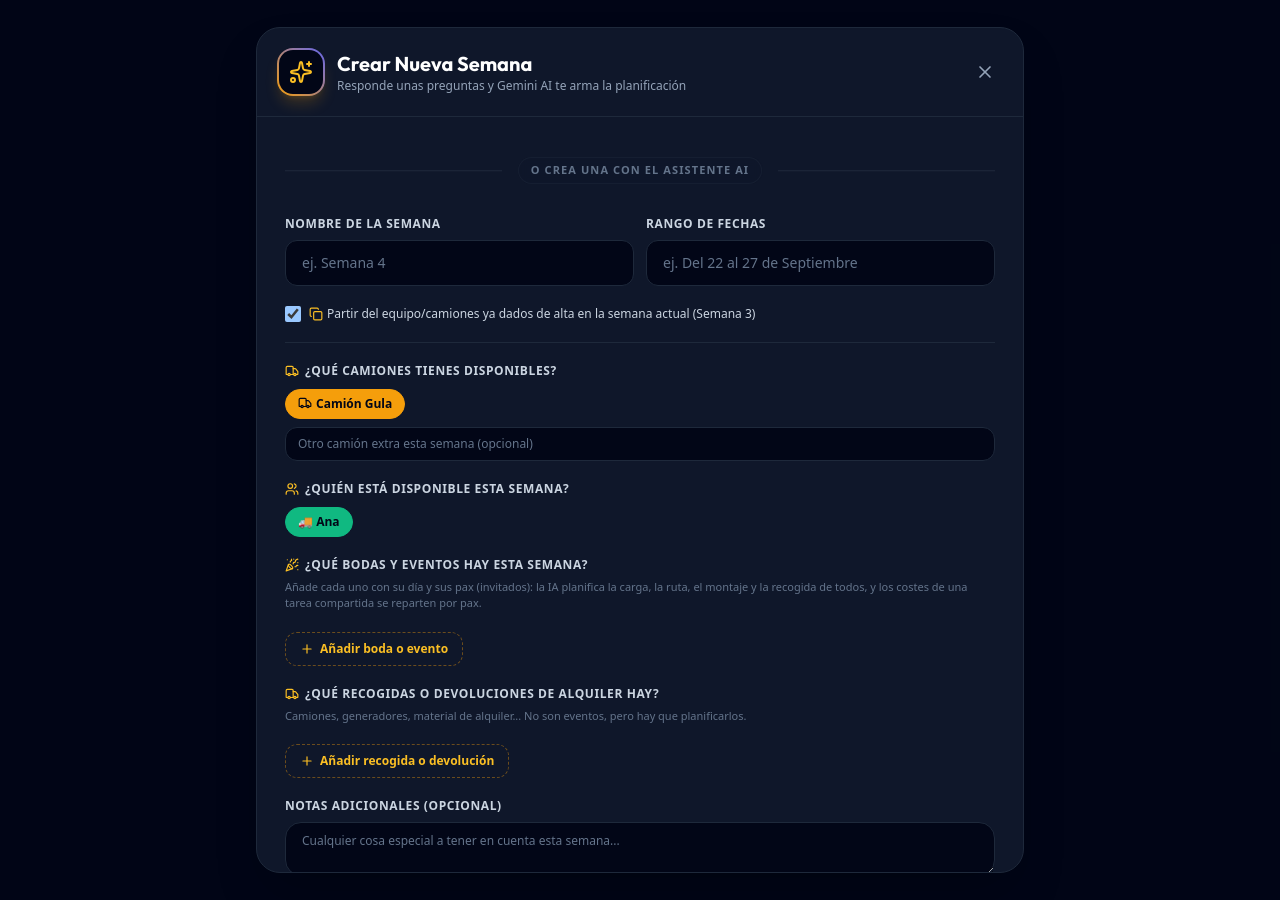
Test: WeekManagerModal — clave de Gemini y errores › sin clave guardada pide la clave, y si falla la generación NO ofrece crear la semana
In the field with placeholder "ej. Semana 4": (460, 262) [285,240,634,286], type "Semana 4"
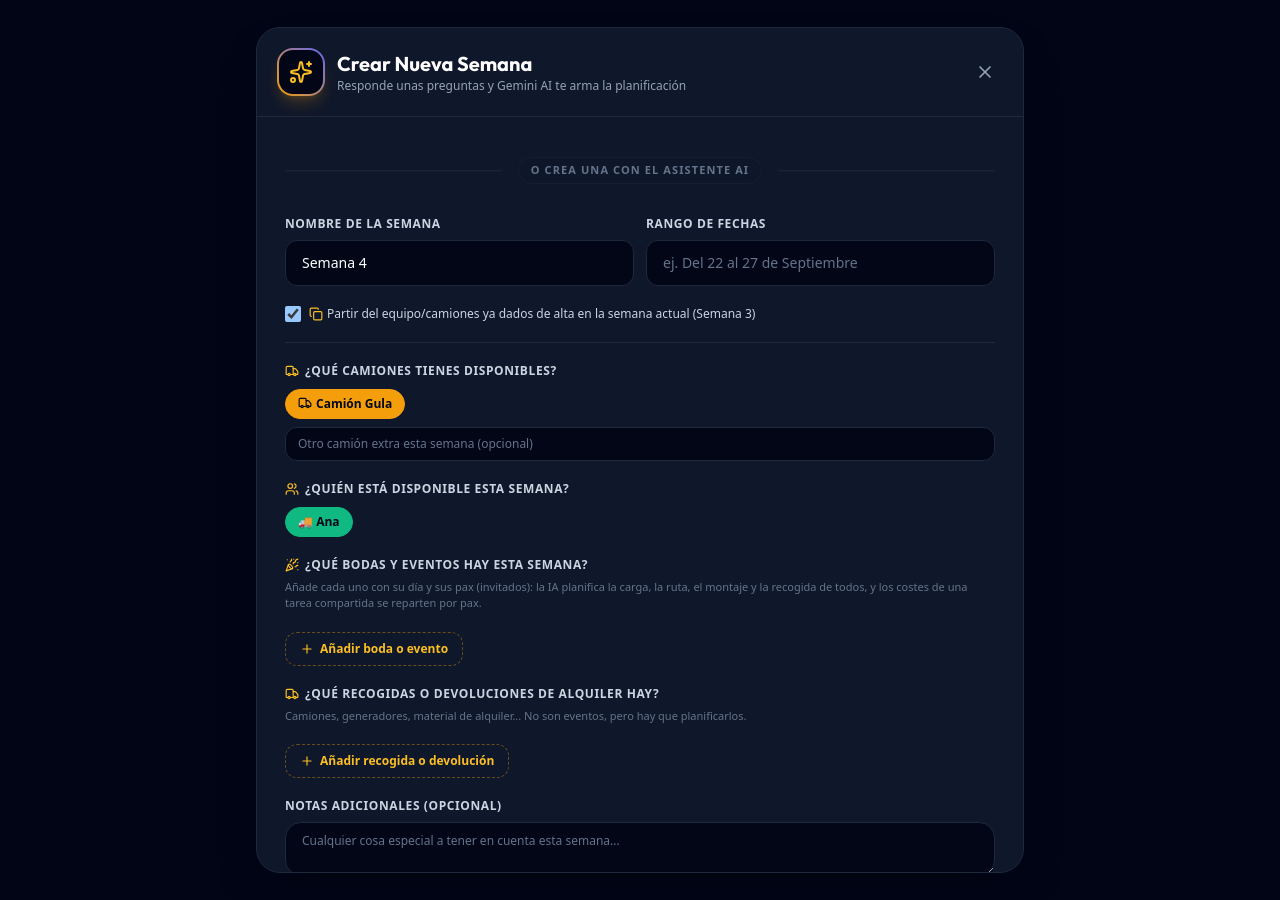
In the field with placeholder "ej. Del 22 al 27 de Septiembre": (820, 262) [646,240,995,286], type "Del 22 al 27 de septiembre"
(page scrolled)
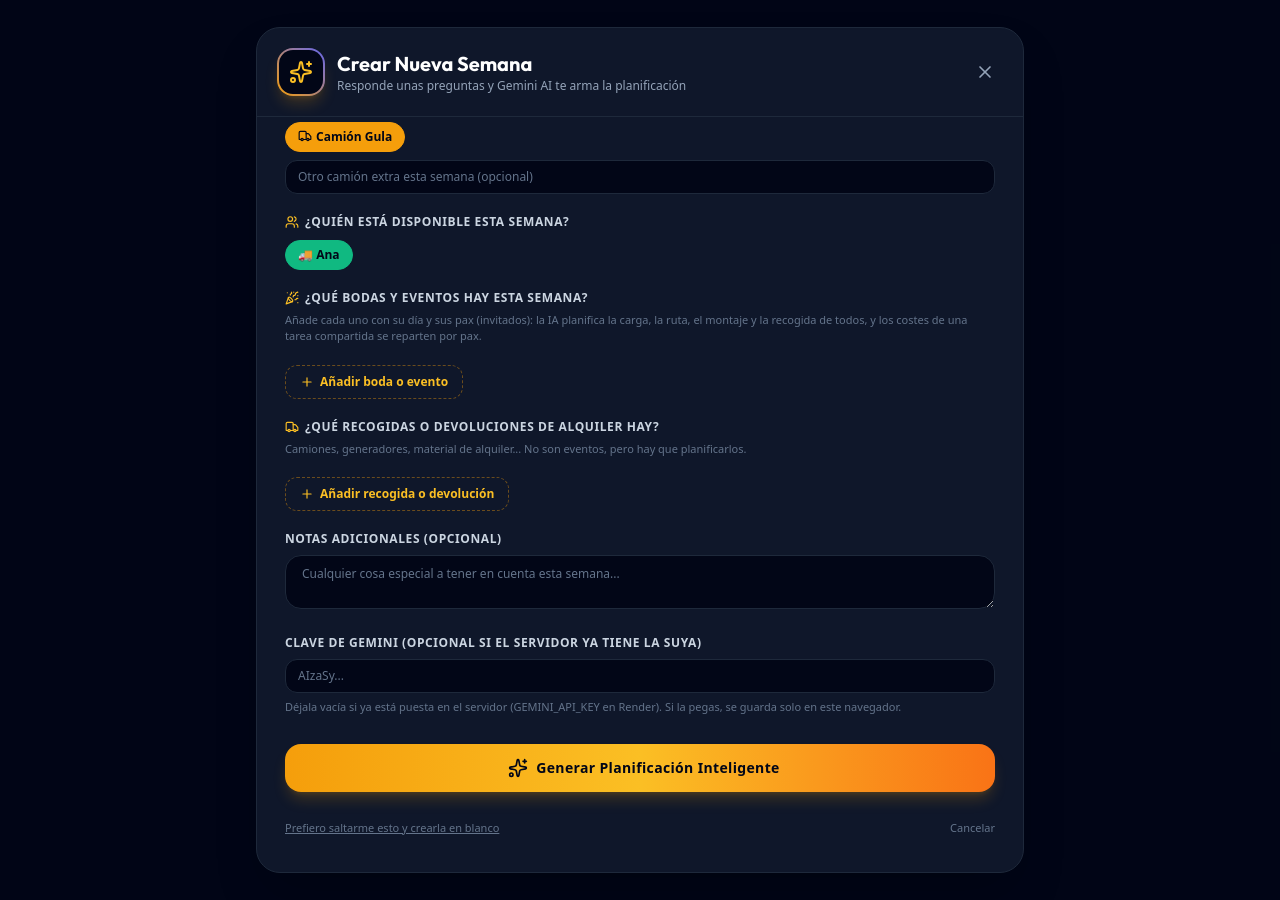
Click the button "Generar Planificación Inteligente": (640, 768) [285,744,995,792]
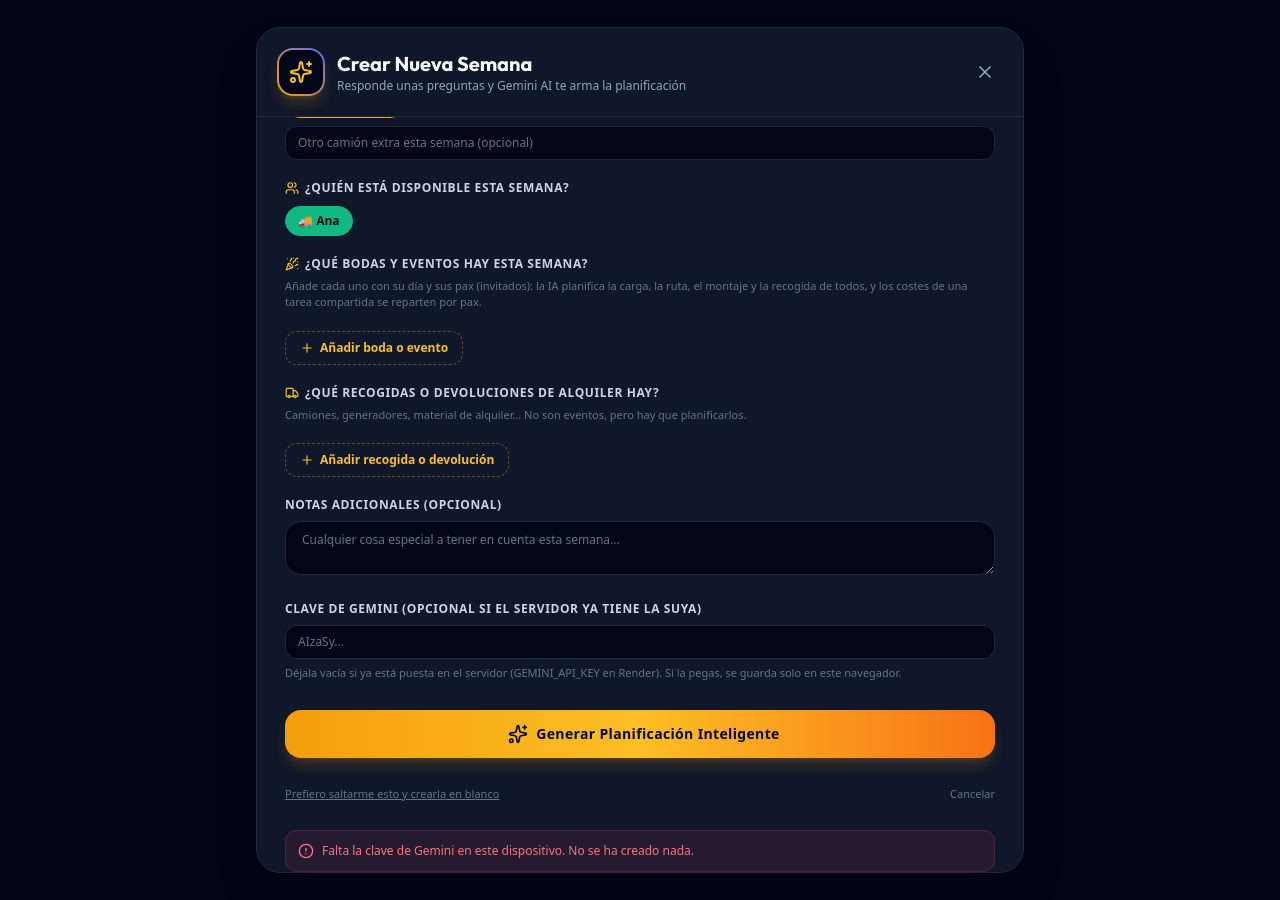
Now the message shows "Falta la clave de Gemini", box [322,842,694,859]
